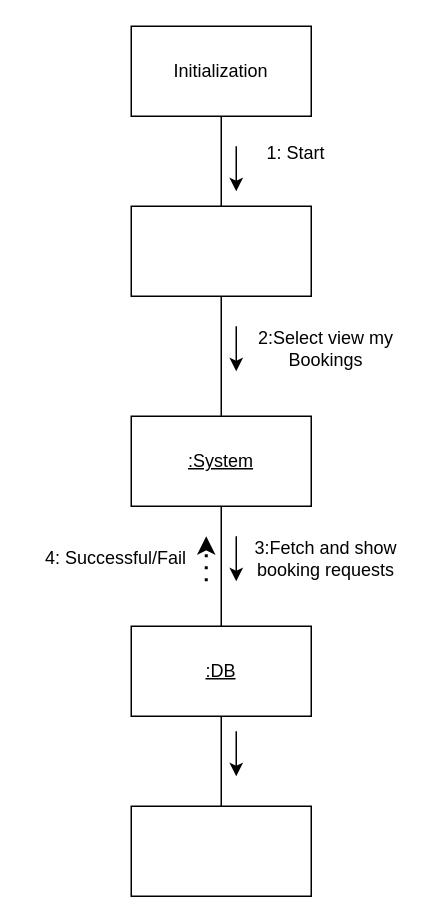
This 441x923 diagram has some shape labels left out. The shapes that lost their labels are listed below. From the top down, each one's box as (x1, y1, x2, y2) in pixels, then its label:
(130, 205, 311, 296): :Student
(130, 805, 311, 896): End
